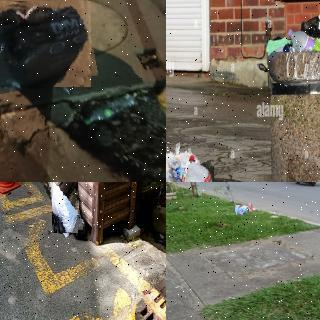Garbage: (0, 0, 94, 92), (166, 139, 216, 182), (49, 182, 80, 233), (70, 210, 88, 241), (235, 205, 250, 215), (244, 203, 254, 212)
